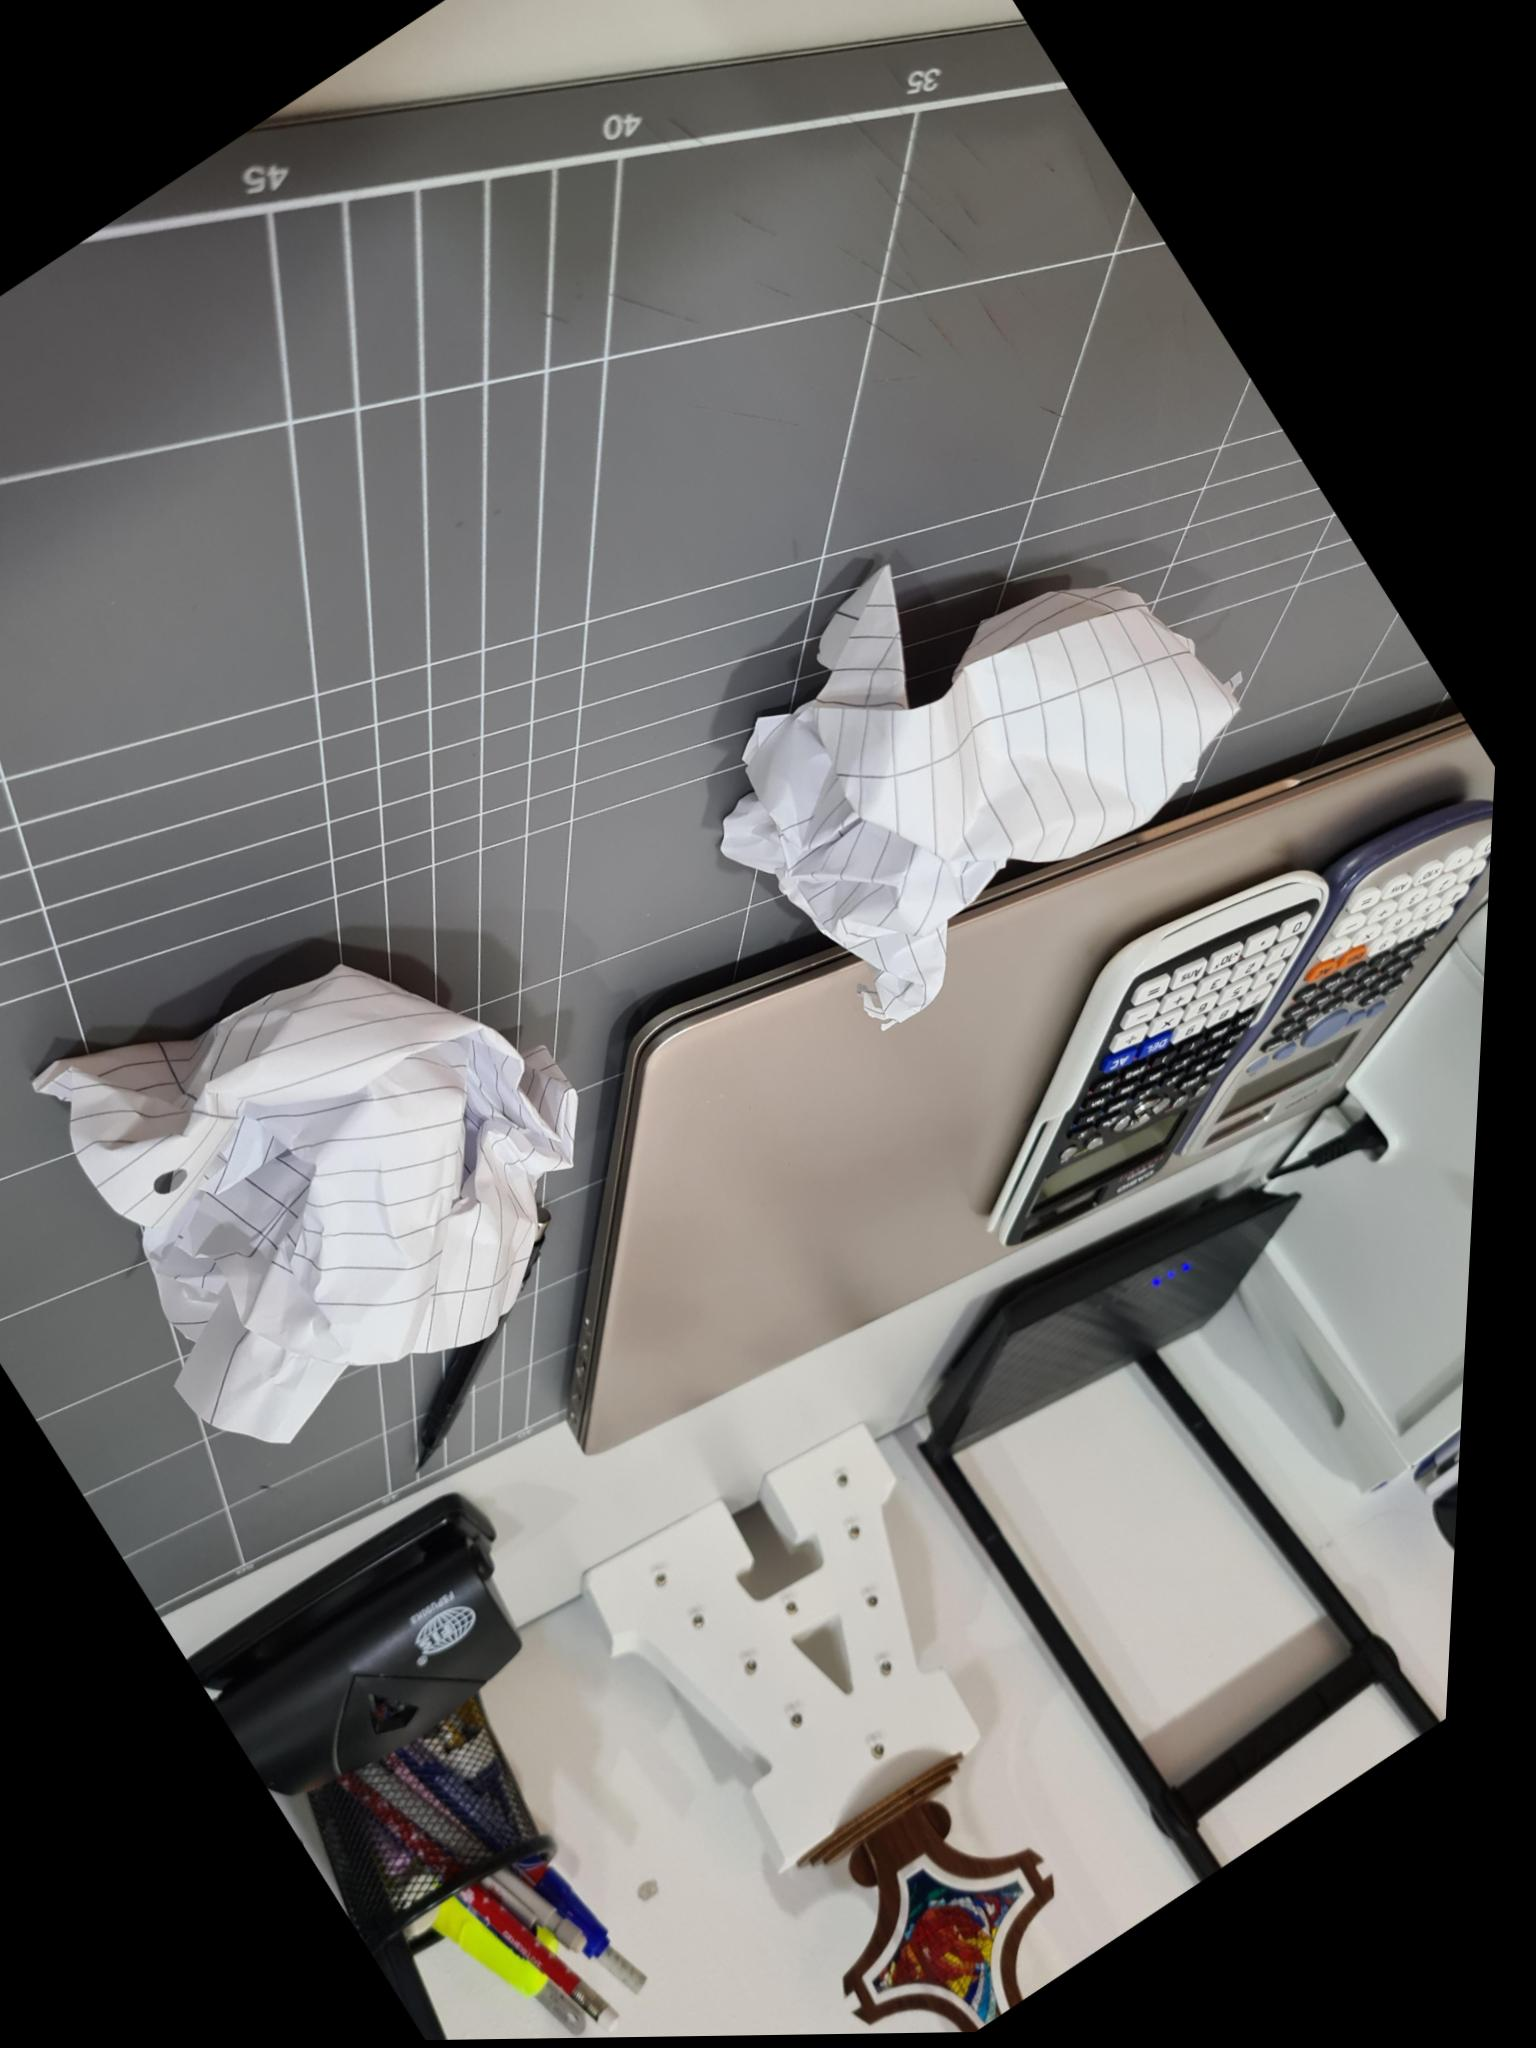paper: (35, 966, 576, 1450), (721, 566, 1234, 1024)
